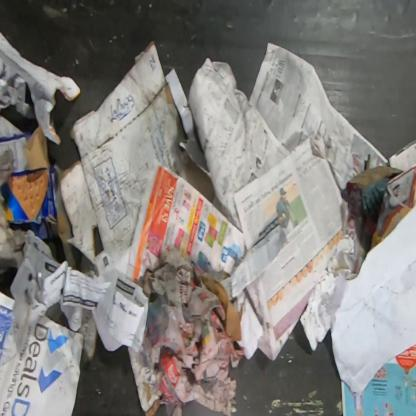cardboard: (58, 39, 215, 265), (0, 124, 59, 241)
